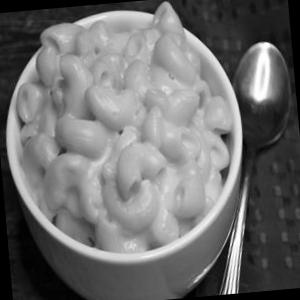pasta: (0, 0, 248, 294)
